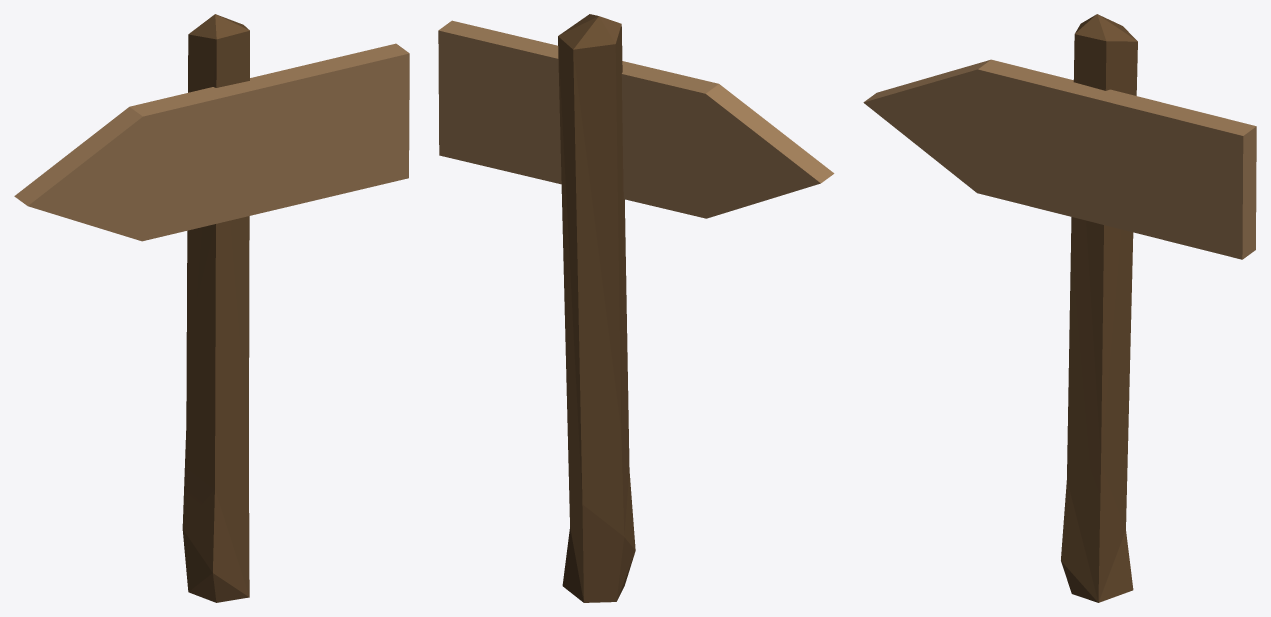
File: Pointer_04.fbx
3 renders of one model, left to right at view 1: azimuth 30°, elevation 25°; view 2: azimuth 150°, elevation 25°; view 3: azimuth 330°, elevation 25°, orthographic.
Parts seen in each view (by area): view 1: Pointer_04; view 2: Pointer_04; view 3: Pointer_04.
Part boxes in pixels (x1,y1,x2,y2): Pointer_04: [14, 14, 409, 602]; Pointer_04: [438, 14, 834, 602]; Pointer_04: [863, 14, 1256, 602].
Bounding box in the file's own units: 1.07 × 1.54 × 0.1995.
